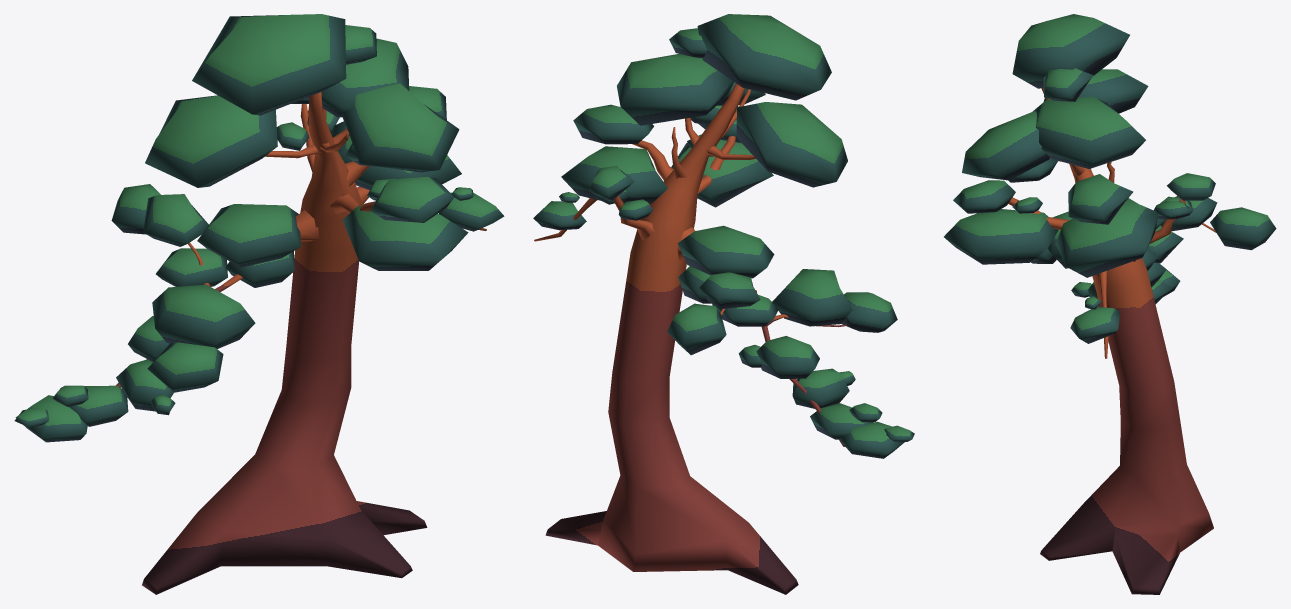
File: Tree_G_2.fbx
3 renders of one model, left to right at view 1: azimuth 30°, elevation 25°; view 2: azimuth 150°, elevation 25°; view 3: azimuth 270°, elevation 25°, orthographic. The views are drawn at different scales.
Visible parts, largest first — view 1: Tree03; view 2: Tree03; view 3: Tree03.
Boxes of the visible parts, x1,y1,x2,y2 form: Tree03: [14, 14, 504, 594]; Tree03: [533, 14, 914, 594]; Tree03: [944, 14, 1276, 594].
Bounding box in the file's own units: 587 × 725 × 440.
1 material, 1 textured.
